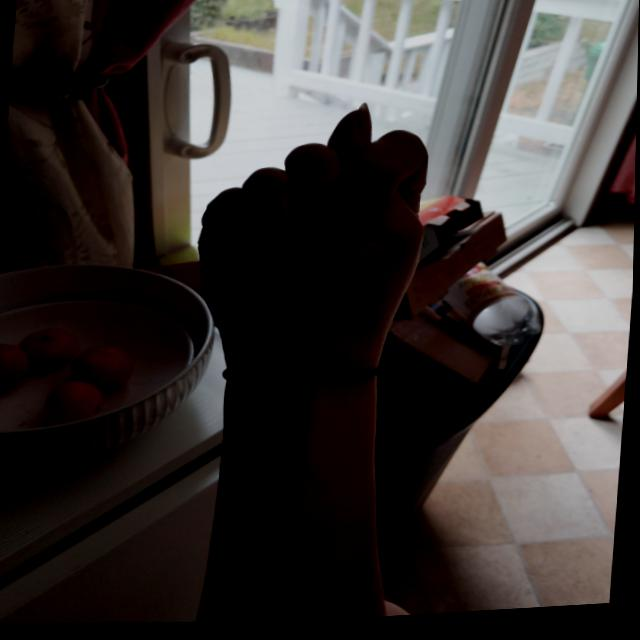T: (184, 92, 450, 392)
